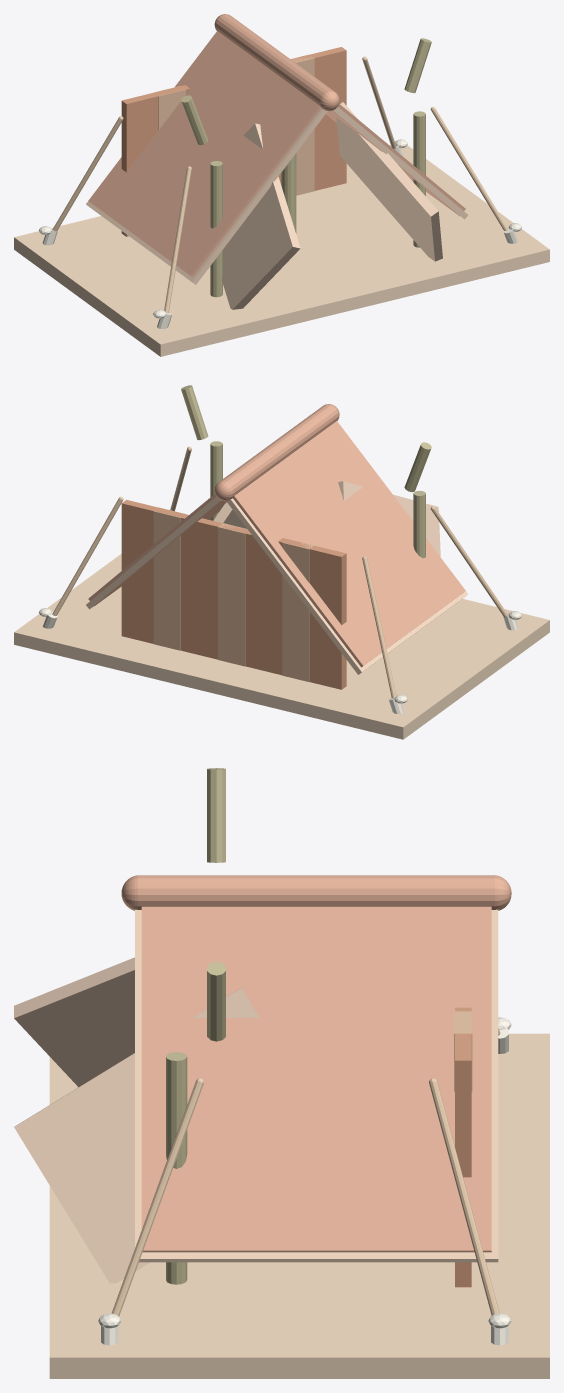
File: tent.glb
3 views of the same model, one above another, from view 1: azimuth 30°, elevation 25°; view 2: azimuth 150°, elevation 25°; view 3: azimuth 270°, elevation 25° (orthographic). The views are drawn at different scales.
Parts seen in each view (by area): view 1: Ground, Roof_L, Flap_L, Back_Wall, Flap_R, Ridge, Roof_Edge_L, Pole_Front_L, Stripe_2, Roof_Edge_R, Roof_R, Pole_Front_R (+8 smaller); view 2: Ground, Roof_L, Back_Wall, Stripe_1, Stripe_2, Stripe_0, Ridge, Roof_Edge_L, Roof_Edge_R, Flap_L, Roof_R, Pole_Front_L (+6 smaller); view 3: Roof_R, Ground, Flap_R, Ridge, Flap_L, Roof_Edge_R, Back_Wall, Pole_Front_R, Rope_R_True, Rope_R_False, Pole_Top_L, Pole_Top_R.
Boxes of the visible parts, bbox=[...] form: Ground: bbox=[14, 145, 549, 356]; Roof_L: bbox=[88, 31, 321, 277]; Flap_L: bbox=[222, 123, 300, 309]; Back_Wall: bbox=[121, 47, 346, 236]; Flap_R: bbox=[336, 102, 442, 261]; Ridge: bbox=[214, 14, 339, 111]; Roof_Edge_L: bbox=[86, 108, 327, 284]; Pole_Front_L: bbox=[210, 161, 222, 297]; Stripe_2: bbox=[290, 54, 314, 195]; Roof_Edge_R: bbox=[333, 107, 467, 219]; Roof_R: bbox=[326, 104, 465, 216]; Pole_Front_R: bbox=[413, 111, 425, 247]; Ground: bbox=[14, 554, 549, 739]; Roof_L: bbox=[233, 421, 465, 667]; Back_Wall: bbox=[121, 499, 346, 689]; Stripe_1: bbox=[218, 523, 246, 666]; Stripe_2: bbox=[153, 507, 184, 650]; Stripe_0: bbox=[282, 539, 314, 681]; Ridge: bbox=[214, 404, 339, 501]; Roof_Edge_L: bbox=[226, 498, 468, 674]; Roof_Edge_R: bbox=[86, 496, 220, 609]; Flap_L: bbox=[338, 481, 440, 556]; Roof_R: bbox=[88, 494, 226, 606]; Pole_Front_L: bbox=[413, 490, 425, 558]; Roof_R: bbox=[141, 906, 491, 1252]; Ground: bbox=[49, 1033, 549, 1378]; Flap_R: bbox=[14, 987, 259, 1283]; Ridge: bbox=[121, 875, 511, 910]; Flap_L: bbox=[14, 957, 134, 1087]; Roof_Edge_R: bbox=[135, 909, 498, 1262]; Back_Wall: bbox=[455, 1007, 471, 1287]; Pole_Front_R: bbox=[166, 1052, 187, 1284]; Rope_R_True: bbox=[111, 1078, 203, 1316]; Rope_R_False: bbox=[429, 1078, 499, 1315]; Pole_Top_L: bbox=[207, 768, 225, 862]; Pole_Top_R: bbox=[207, 961, 225, 1041].
Size of the model in its own units: 2.3 by 1.16 by 1.61.
